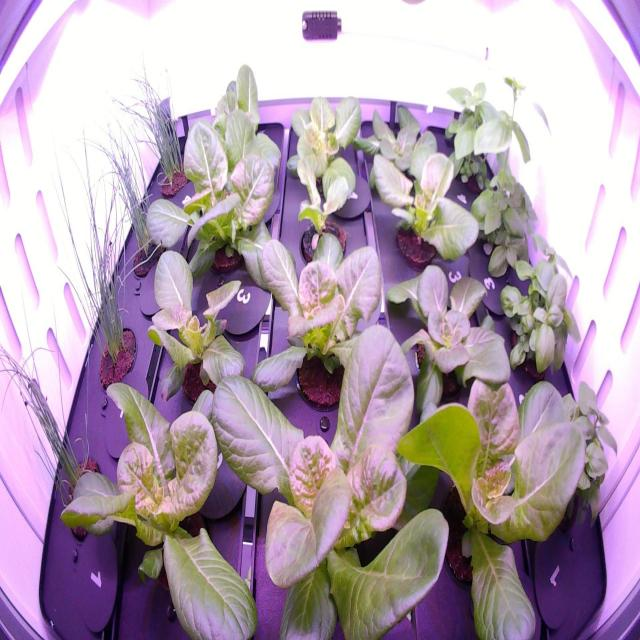young: (194, 316, 456, 636), (51, 341, 277, 636), (380, 349, 592, 636), (236, 221, 414, 428), (140, 107, 296, 330), (366, 249, 528, 442), (135, 236, 258, 406), (364, 124, 486, 281), (188, 53, 284, 201), (278, 139, 367, 279), (278, 78, 372, 202), (344, 86, 444, 193)
